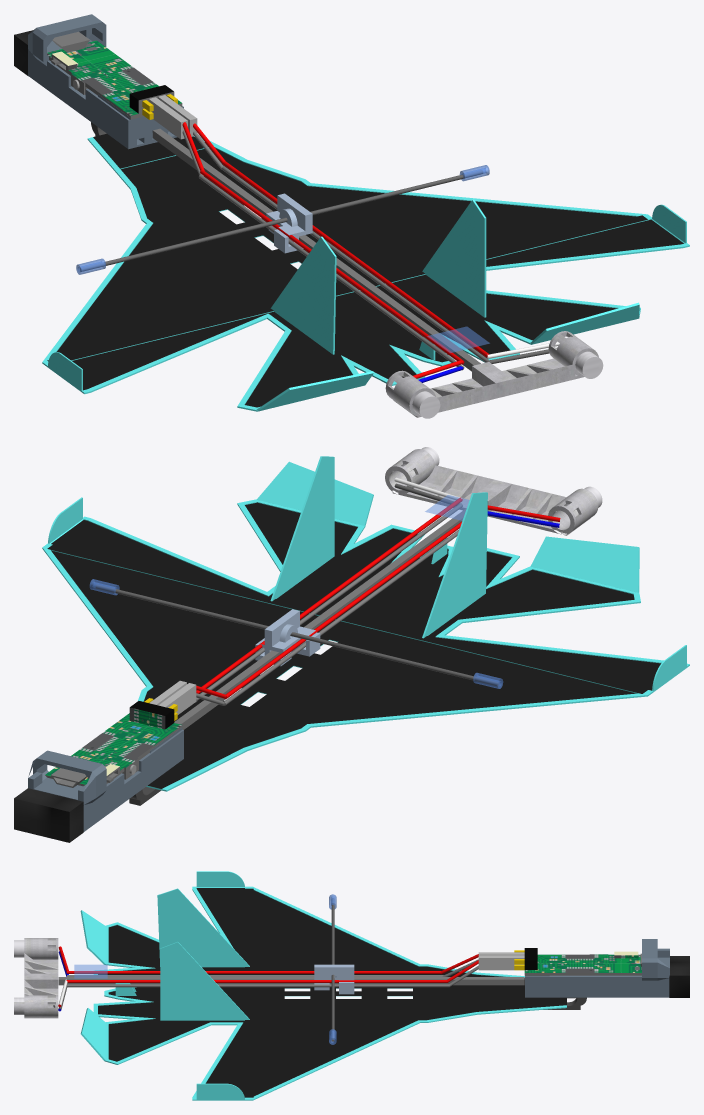
The picture shows the model from 3 angles, top to bottom: view 1: azimuth 30°, elevation 25°; view 2: azimuth 150°, elevation 25°; view 3: azimuth 270°, elevation 25°; orthographic projection. The views are drawn at different scales.
Visible parts, largest first — view 1: root, 720B_new_37_615_0.98a+1_Wing fence_bigger circle--current, object 2, object 6, 元件#1, bar_hook_current, 元件#2; view 2: root, 720B_new_37_615_0.98a+1_Wing fence_bigger circle--current, object 6, object 2, 元件#1, bar_hook_current, 元件#2; view 3: root, 720B_new_37_615_0.98a+1_Wing fence_bigger circle--current, object 2, object 6, bar_hook_current, 元件#1.
Boxes of the visible parts, x1=… form: root: x1=14, y1=14, x2=689, y2=411; 720B_new_37_615_0.98a+1_Wing fence_bigger circle--current: x1=385, y1=331, x2=603, y2=418; object 2: x1=221, y1=161, x2=489, y2=362; object 6: x1=198, y1=170, x2=464, y2=370; 元件#1: x1=80, y1=170, x2=482, y2=271; bar_hook_current: x1=266, y1=193, x2=312, y2=253; 元件#2: x1=76, y1=165, x2=489, y2=274; root: x1=14, y1=456, x2=689, y2=842; 720B_new_37_615_0.98a+1_Wing fence_bigger circle--current: x1=385, y1=447, x2=602, y2=535; object 6: x1=224, y1=521, x2=461, y2=705; object 2: x1=196, y1=497, x2=462, y2=700; 元件#1: x1=95, y1=585, x2=498, y2=686; bar_hook_current: x1=255, y1=609, x2=320, y2=666; 元件#2: x1=89, y1=579, x2=503, y2=688; root: x1=53, y1=871, x2=689, y2=1100; 720B_new_37_615_0.98a+1_Wing fence_bigger circle--current: x1=14, y1=938, x2=58, y2=1018; object 2: x1=66, y1=980, x2=449, y2=987; object 6: x1=67, y1=971, x2=443, y2=976; bar_hook_current: x1=314, y1=964, x2=354, y2=994; 元件#1: x1=331, y1=898, x2=334, y2=1041.
Size of the model in its own units: 0.1962 by 0.0374 by 0.2634.
23 materials, 5 textured.
